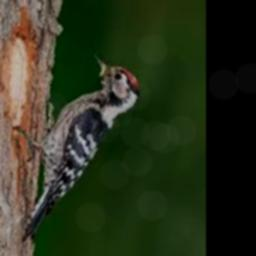Woodpecker: (14, 54, 141, 240)
